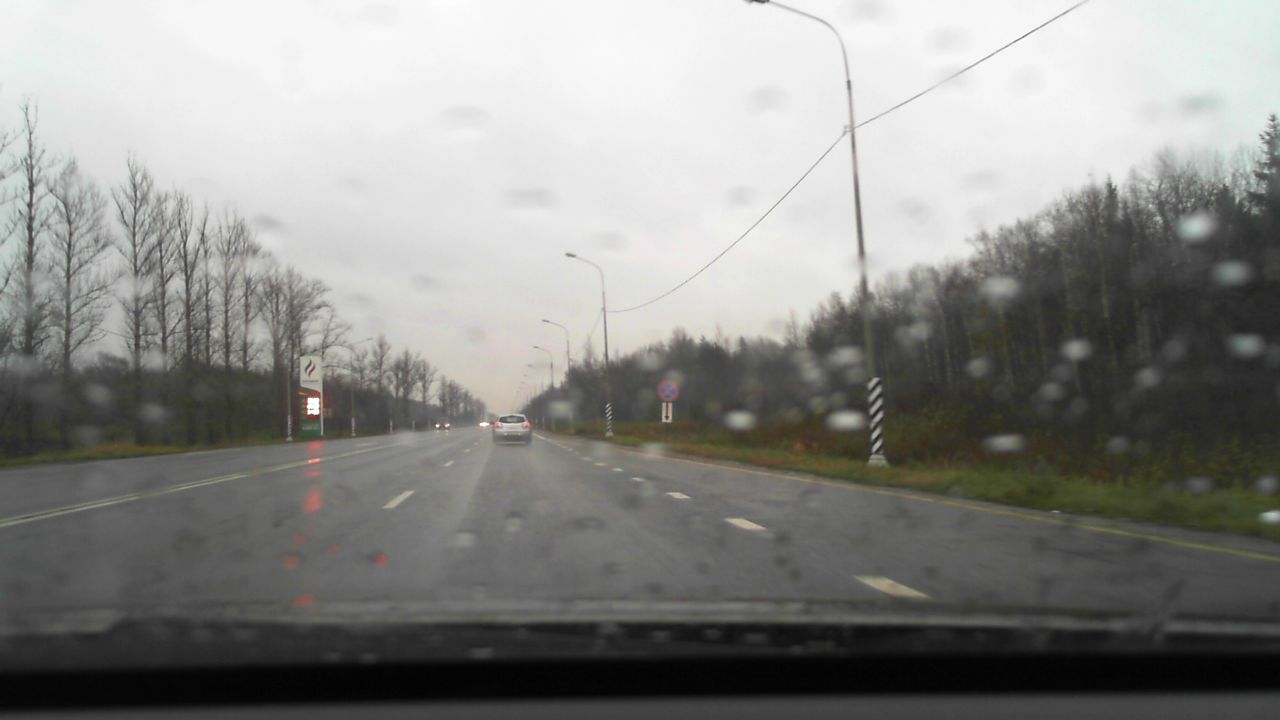No Parking: (656, 379, 679, 401)
